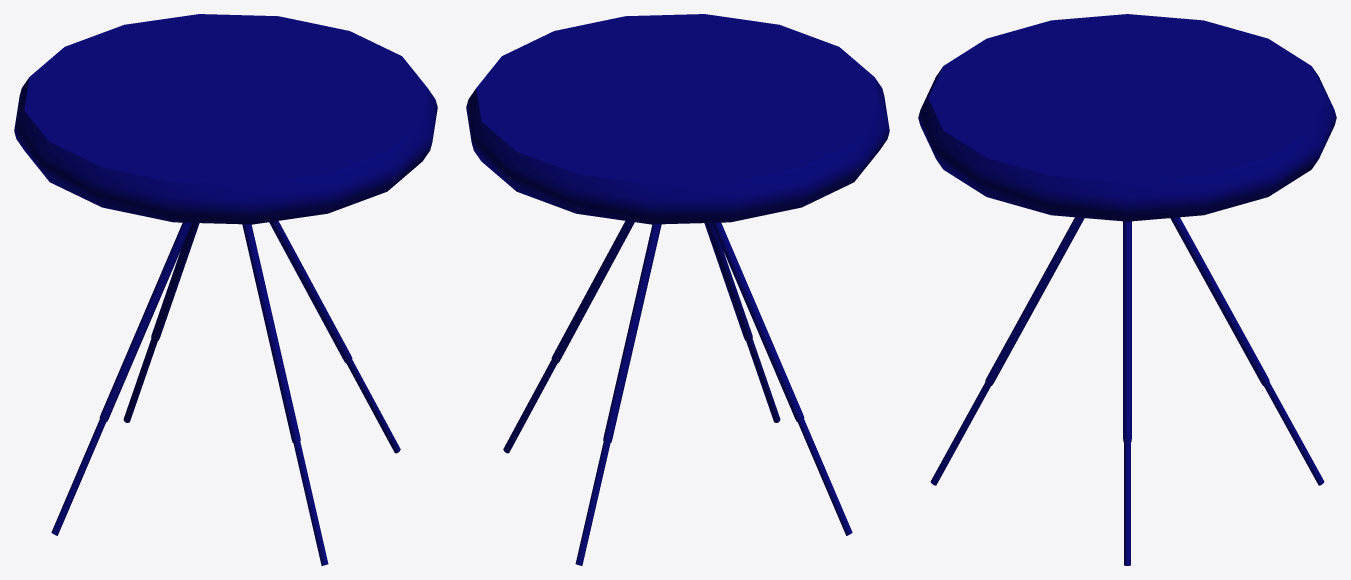
File: Taburete.fbx
3 renders of one model, left to right at view 1: azimuth 30°, elevation 25°; view 2: azimuth 150°, elevation 25°; view 3: azimuth 270°, elevation 25°, orthographic. The views are drawn at different scales.
Parts seen in each view (by area): view 1: Taburete; view 2: Taburete; view 3: Taburete.
Boxes of the visible parts, left/top/right/bottom form: Taburete: left=14, top=14, right=437, bottom=565; Taburete: left=466, top=14, right=889, bottom=565; Taburete: left=918, top=14, right=1336, bottom=565.
Bounding box in the file's own units: 0.2615 × 0.2668 × 0.2615.
